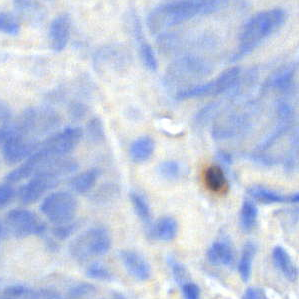Lymphocyte: (197, 162, 229, 194)
